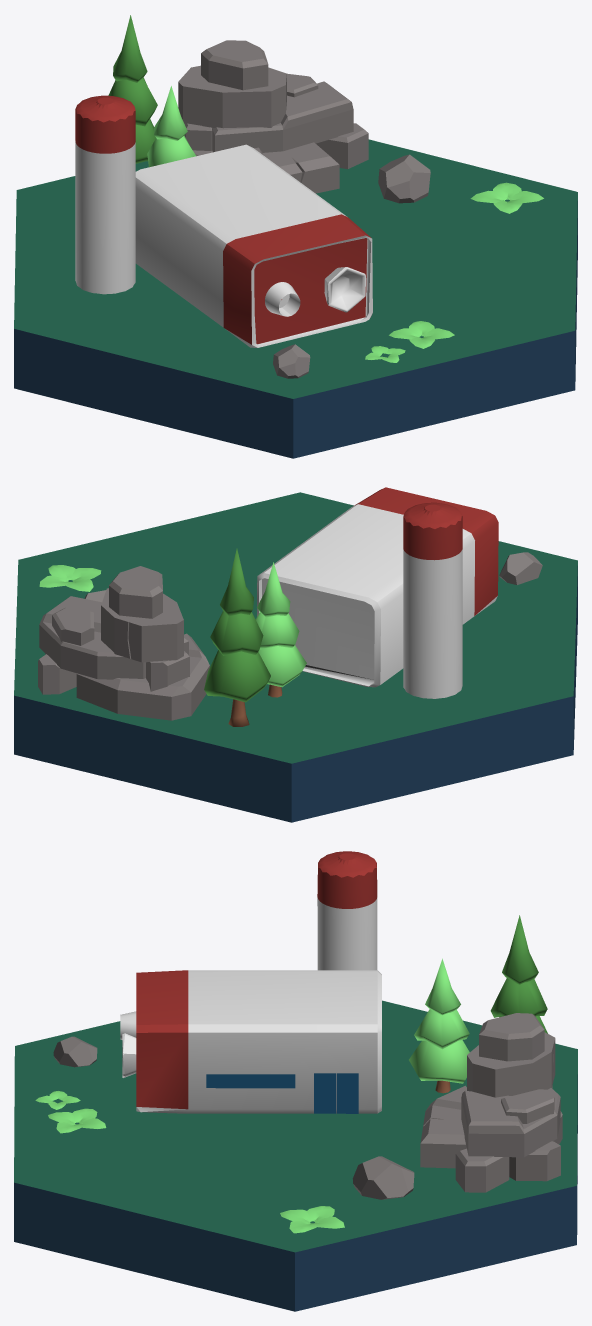
The model's file is Macro - Electric lvl 1.fbx.
3 views of the same model, one above another, from view 1: azimuth 30°, elevation 25°; view 2: azimuth 150°, elevation 25°; view 3: azimuth 270°, elevation 25° (orthographic).
Parts seen in each view (by area): view 1: Cylinder.154, Cube battery.011, Rock Type1 02 mesh.013, Cylinder battery.005, Tree_Spruce_tiny_01.002, Rock Type2 04 mesh.001, Tree_Spruce_tiny_01.001, Plane.004, Rock Type2 04 mesh.005, Plane.011; view 2: Cylinder.154, Cube battery.011, Rock Type1 02 mesh.013, Cylinder battery.005, Tree_Spruce_tiny_01.002, Tree_Spruce_tiny_01.001, Plane.004, Rock Type2 04 mesh.005; view 3: Cylinder.154, Cube battery.011, Rock Type1 02 mesh.013, Cylinder battery.005, Tree_Spruce_tiny_01.001, Tree_Spruce_tiny_01.002, Rock Type2 04 mesh.001, Plane.002, Plane.004, Rock Type2 04 mesh.005, Plane.001, Plane.011 (+1 smaller).
Part boxes in pixels (<box>): Cylinder.154: <box>14,139,577,458</box>; Cube battery.011: <box>135,144,372,347</box>; Rock Type1 02 mesh.013: <box>178,40,368,193</box>; Cylinder battery.005: <box>75,95,135,294</box>; Tree_Spruce_tiny_01.002: <box>108,15,157,163</box>; Rock Type2 04 mesh.001: <box>378,154,430,203</box>; Tree_Spruce_tiny_01.001: <box>147,86,196,167</box>; Plane.004: <box>470,182,543,213</box>; Rock Type2 04 mesh.005: <box>273,344,310,378</box>; Plane.011: <box>389,321,454,348</box>; Cylinder.154: <box>14,492,577,822</box>; Cube battery.011: <box>257,487,498,687</box>; Rock Type1 02 mesh.013: <box>38,566,209,720</box>; Cylinder battery.005: <box>403,502,462,698</box>; Tree_Spruce_tiny_01.002: <box>204,548,270,726</box>; Tree_Spruce_tiny_01.001: <box>255,562,306,697</box>; Plane.004: <box>39,565,101,591</box>; Rock Type2 04 mesh.005: <box>499,552,542,584</box>; Cylinder.154: <box>14,1000,577,1311</box>; Cube battery.011: <box>120,970,381,1113</box>; Rock Type1 02 mesh.013: <box>420,1013,562,1192</box>; Cylinder battery.005: <box>317,851,377,970</box>; Tree_Spruce_tiny_01.001: <box>409,958,469,1093</box>; Tree_Spruce_tiny_01.002: <box>490,915,547,1033</box>; Rock Type2 04 mesh.001: <box>352,1156,414,1199</box>; Plane.002: <box>206,1074,295,1088</box>; Plane.004: <box>280,1206,344,1233</box>; Rock Type2 04 mesh.005: <box>53,1036,97,1067</box>; Plane.001: <box>336,1073,358,1113</box>; Plane.011: <box>48,1108,106,1133</box>.
Size of the model in its own units: 197 by 80.5 by 172.
